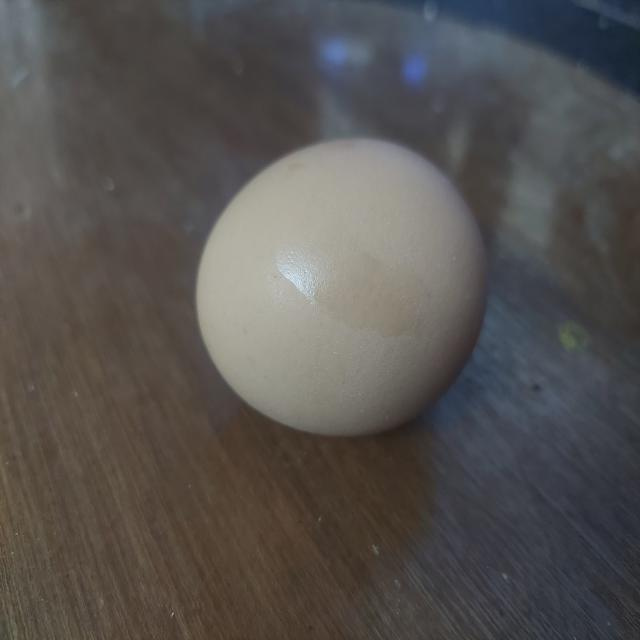egg: (188, 133, 498, 449)
